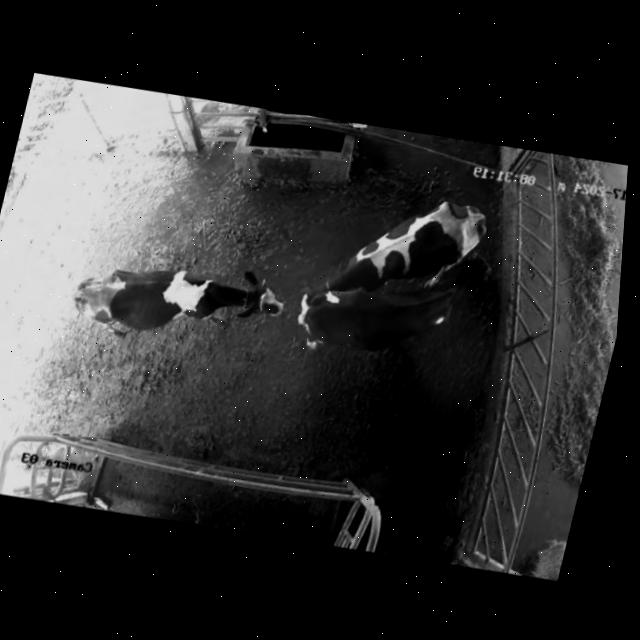stand: (53, 219, 307, 388), (287, 164, 517, 335), (284, 219, 507, 392)
